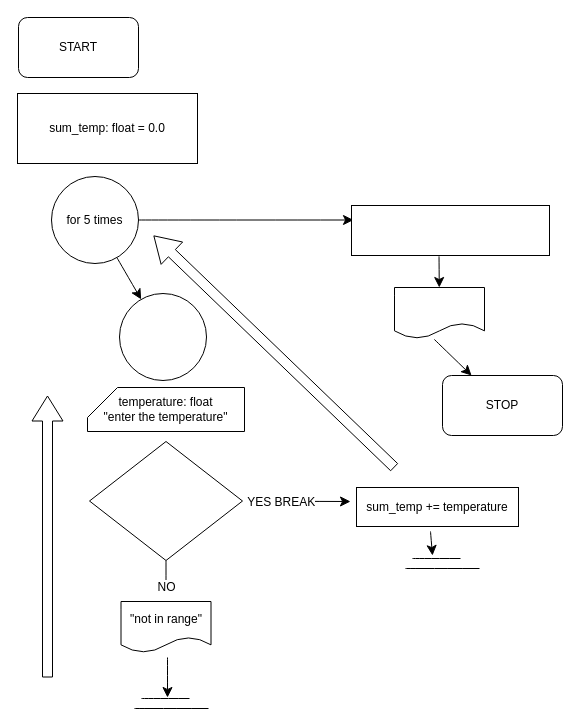
This 580x727 diagram has some shape labels left out. Here are the shapes that lost their labels. From the top down, the box of each, then its label:
(350, 204, 550, 256): avg_tmp: float = sum_temp / 5
(394, 286, 484, 338): avg
(118, 292, 206, 380): while True
(88, 440, 242, 560): -50 >= temperature <= 45
